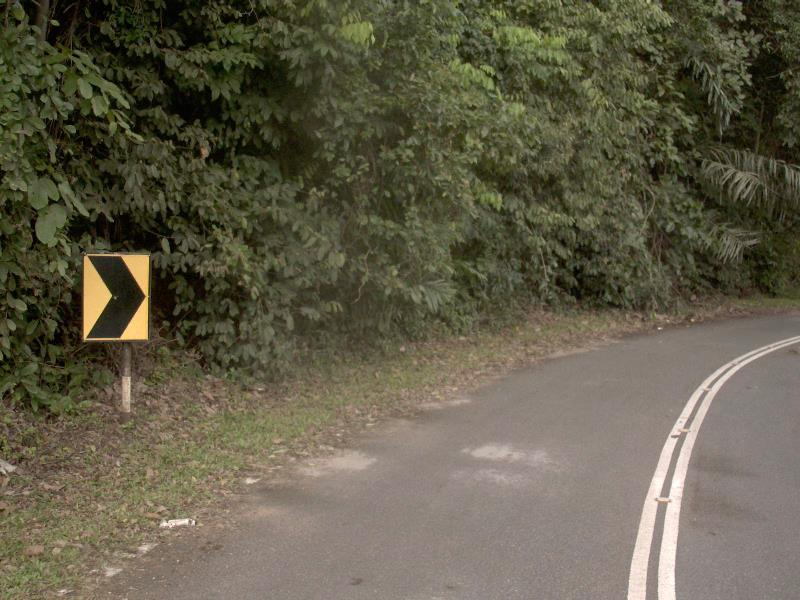traffic_sign: (71, 239, 164, 354)
